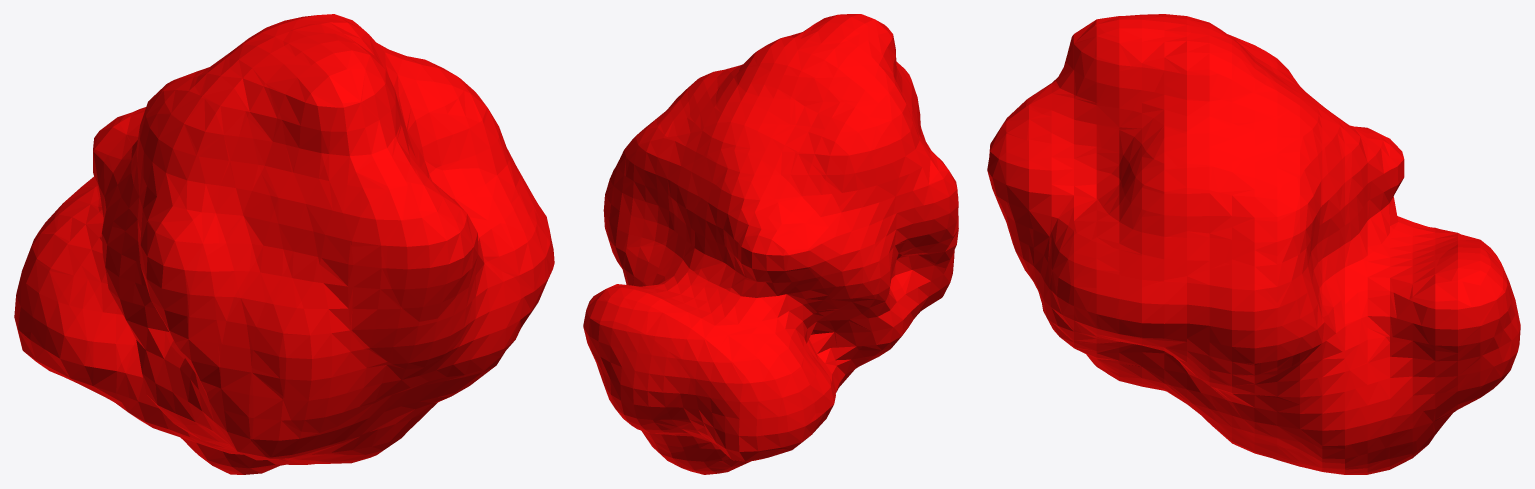
Rendered from hxpA_coarse.dae.
3 renders of one model, left to right at view 1: azimuth 30°, elevation 25°; view 2: azimuth 150°, elevation 25°; view 3: azimuth 270°, elevation 25°, orthographic. The views are drawn at different scales.
Visible parts, largest first — view 1: hxpA; view 2: hxpA; view 3: hxpA.
Boxes of the visible parts, x1,y1,x2,y2 form: hxpA: [14, 14, 554, 474]; hxpA: [583, 14, 958, 474]; hxpA: [987, 14, 1520, 474].
Bounding box in the file's own units: 40.92 × 49.49 × 55.31.
